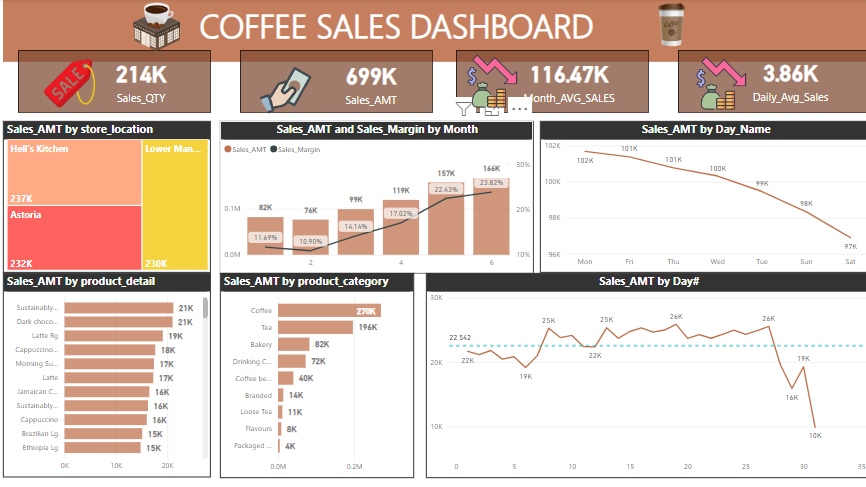

Layout of this report page (visuals, bound fields, positions):
{"tool":"powerbi","page":{"name":"Page 1","canvas":[1280,720],"ordinal":0},"visuals":[{"type":"shape","box":[10.1,0,1269.9,92.4],"z":0},{"type":"shape","box":[31.9,73.9,282.2,92.4],"z":1000},{"type":"shape","box":[997.8,73.9,282.2,92.4],"z":2000},{"type":"shape","box":[357.8,73.9,282.2,92.4],"z":3000},{"type":"shape","box":[673.6,73.9,282.2,92.4],"z":4000},{"type":"card","fields":{"Values":["Calculations.Sales_QTY"]},"box":[99.5,74.6,225.4,86.3],"z":5000},{"type":"card","fields":{"Values":["Calculations.Daily_Avg_Sales"]},"box":[1061,73.2,203.4,86.3],"z":6000},{"type":"card","fields":{"Values":["Calculations.Month_AVG_SALES"]},"box":[725.9,74.6,225.4,86.3],"z":7000},{"type":"card","fields":{"Values":["Calculations.Sales_AMT"]},"box":[436.1,77.6,225.4,86.3],"z":8000},{"type":"textbox","box":[100.8,0,804.6,73.9],"z":9000},{"type":"treemap","fields":{"Values":["Calculations.Sales_AMT"],"Group":["Transactions.store_location"]},"box":[0,178.1,314.1,223.4],"z":10000},{"type":"lineClusteredColumnComboChart","fields":{"Y":["Calculations.Sales_AMT"],"Y2":["Calculations.Sales_Margin"],"Category":["Calender.Month"]},"box":[327.6,178.1,458.6,223.4],"z":11000},{"type":"lineChart","fields":{"Y":["Calculations.Sales_AMT"],"Category":["Calender.Day_Name"]},"box":[796.1,178.5,484.4,222.4],"z":12000},{"type":"clusteredBarChart","fields":{"Y":["Calculations.Sales_AMT"],"Category":["Transactions.product_detail"]},"box":[10.1,401.5,304,299],"z":13000},{"type":"clusteredBarChart","fields":{"Y":["Calculations.Sales_AMT"],"Category":["Transactions.product_category"]},"box":[327.8,401,283.9,300],"z":14000},{"type":"lineChart","fields":{"Y":["Calculations.Sales_AMT"],"Category":["Calender.Day#"]},"box":[629.3,401,651.2,300],"z":15000},{"type":"image","box":[0,0,469.8,92.2],"z":16000},{"type":"image","box":[379,87.8,90.7,90.7],"z":17000},{"type":"image","box":[680.5,74.6,90.7,90.7],"z":18000},{"type":"image","box":[838.5,0,300,74.6],"z":19000},{"type":"image","box":[61.5,76.1,90.7,90.7],"z":20000},{"type":"image","box":[1015.6,77.6,90.7,90.7],"z":21000}]}

Visuals, with their boxes in screenshot pixels (x1, y1, x2, y2), scaled from the page's 1280x720 canvas onto the 866x487 screenshot:
shape: 7,0,865,62
shape: 22,50,213,112
shape: 675,50,865,112
shape: 242,50,433,112
shape: 456,50,647,112
card - Calculations.Sales_QTY: 67,50,220,109
card - Calculations.Daily_Avg_Sales: 718,50,855,108
card - Calculations.Month_AVG_SALES: 491,50,644,109
card - Calculations.Sales_AMT: 295,52,448,111
textbox: 68,0,613,50
treemap - Calculations.Sales_AMT x Transactions.store_location: 0,120,213,272
lineClusteredColumnComboChart - Calculations.Sales_AMT x Calculations.Sales_Margin: 222,120,532,272
lineChart - Calculations.Sales_AMT x Calender.Day_Name: 539,121,865,271
clusteredBarChart - Calculations.Sales_AMT x Transactions.product_detail: 7,272,213,474
clusteredBarChart - Calculations.Sales_AMT x Transactions.product_category: 222,271,414,474
lineChart - Calculations.Sales_AMT x Calender.Day#: 426,271,865,474
image: 0,0,318,62
image: 256,59,318,121
image: 460,50,522,112
image: 567,0,770,50
image: 42,51,103,113
image: 687,52,748,114
